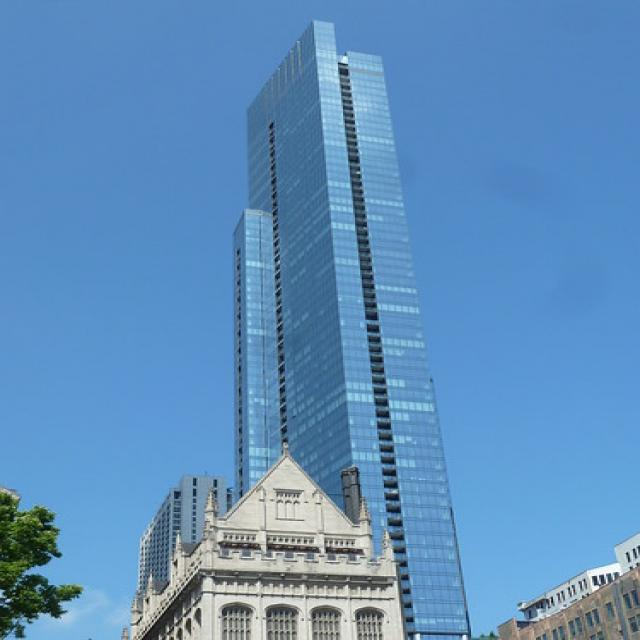Normal_building: (217, 19, 478, 640)
